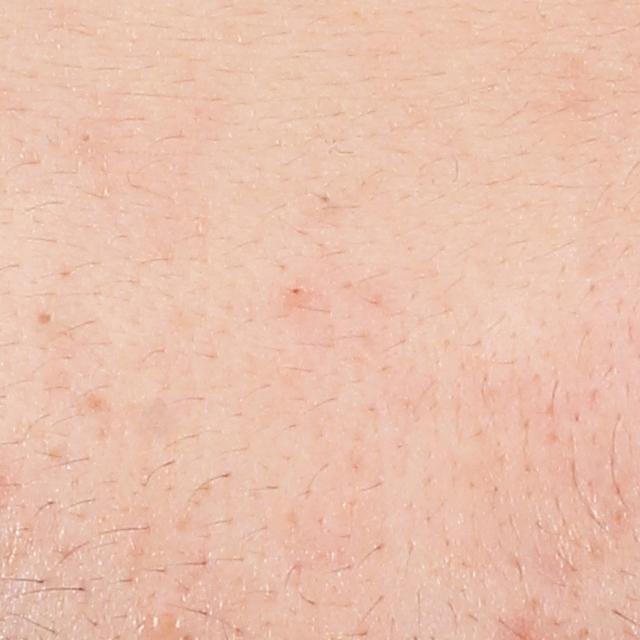comedo: (38, 312, 54, 328), (318, 191, 333, 206)
